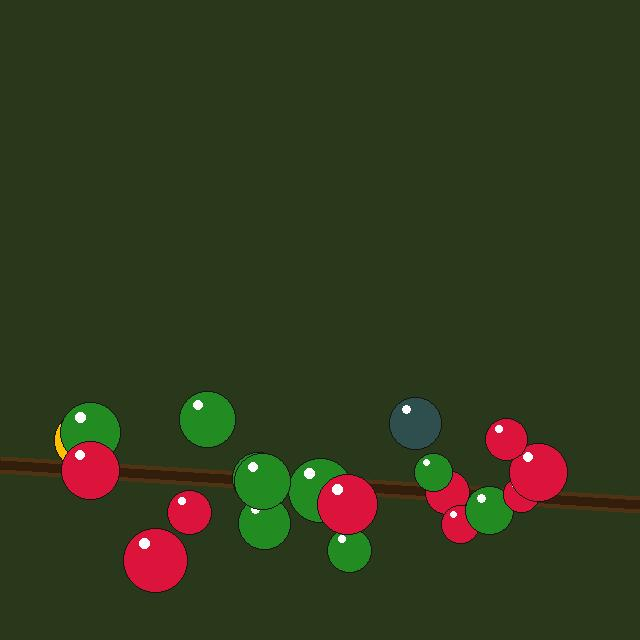Dry_Damaged: (389, 397, 441, 449)
Overripe: (73, 439, 111, 477)
Ripe: (123, 528, 187, 592), (317, 474, 377, 534), (61, 441, 119, 499), (509, 443, 567, 501), (425, 470, 469, 514), (167, 490, 211, 534), (485, 418, 527, 460), (441, 505, 479, 543), (503, 476, 539, 512)
Ripening: (54, 412, 110, 468)
Unripe: (288, 458, 352, 522), (60, 402, 120, 462), (179, 391, 235, 447), (234, 453, 290, 509), (232, 452, 284, 504), (238, 497, 290, 549), (465, 486, 513, 534), (327, 528, 371, 572), (146, 543, 184, 581), (414, 453, 452, 491)
